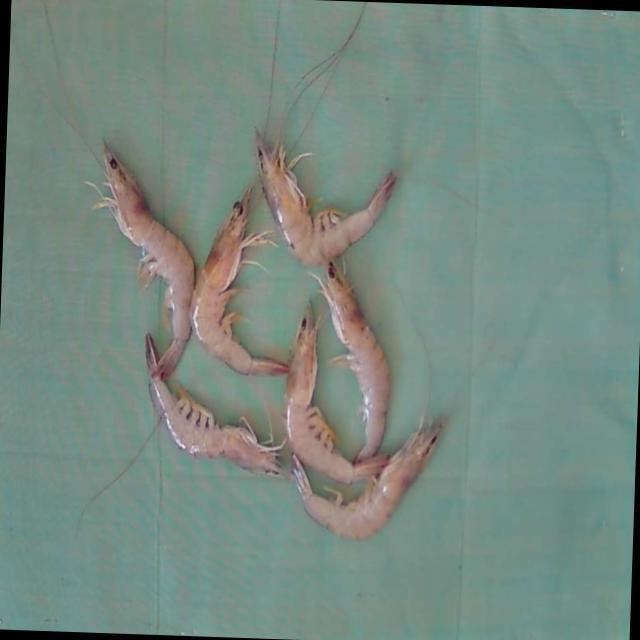shrimp: (95, 143, 194, 380), (144, 332, 288, 475), (283, 304, 388, 484), (257, 134, 396, 266), (191, 189, 288, 375), (292, 425, 442, 539), (315, 262, 391, 462)
